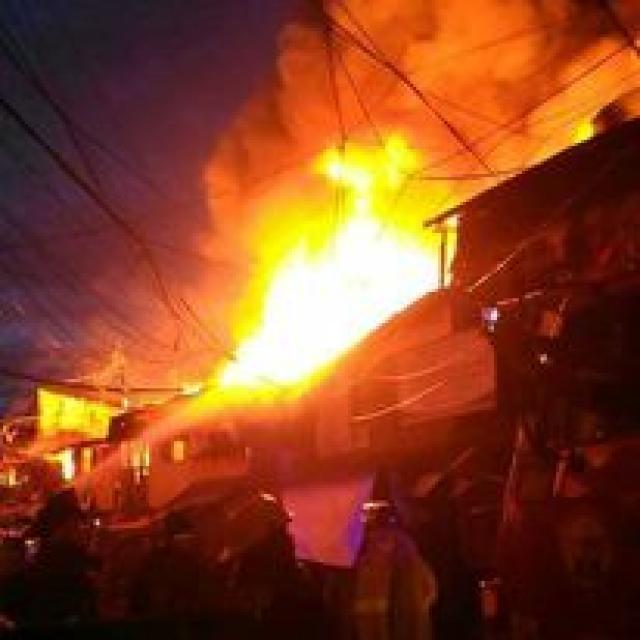Fire: (207, 131, 463, 399)
Smoke: (203, 0, 640, 267)
